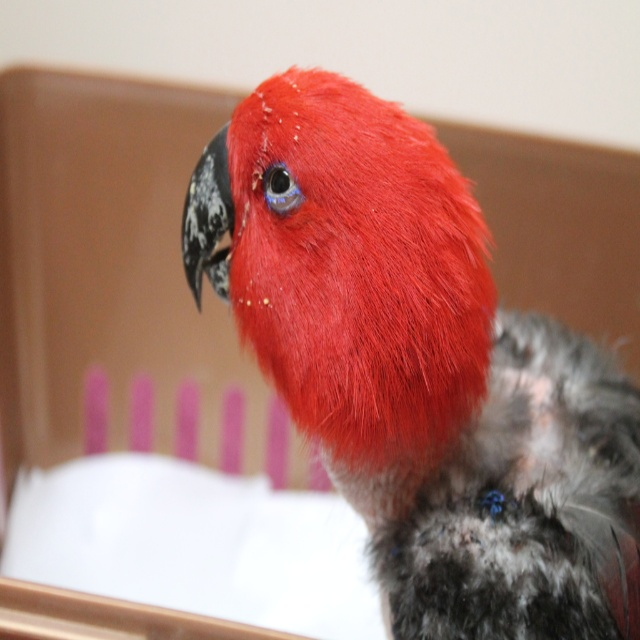Parrot: (181, 68, 640, 639)
